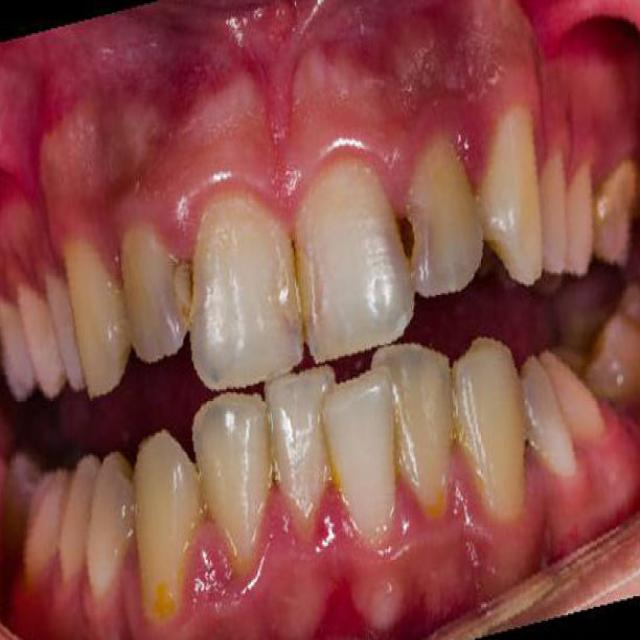caries: (269, 239, 337, 348), (161, 251, 214, 342), (379, 201, 432, 281)
